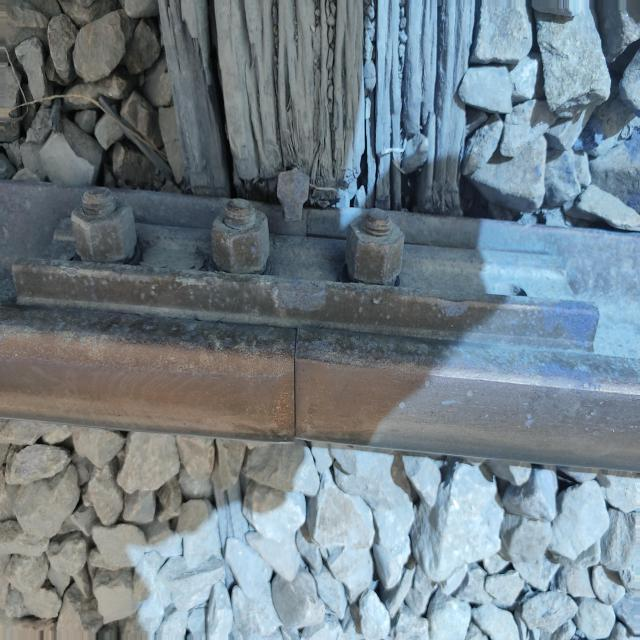Defective Joint: (12, 186, 624, 377)
